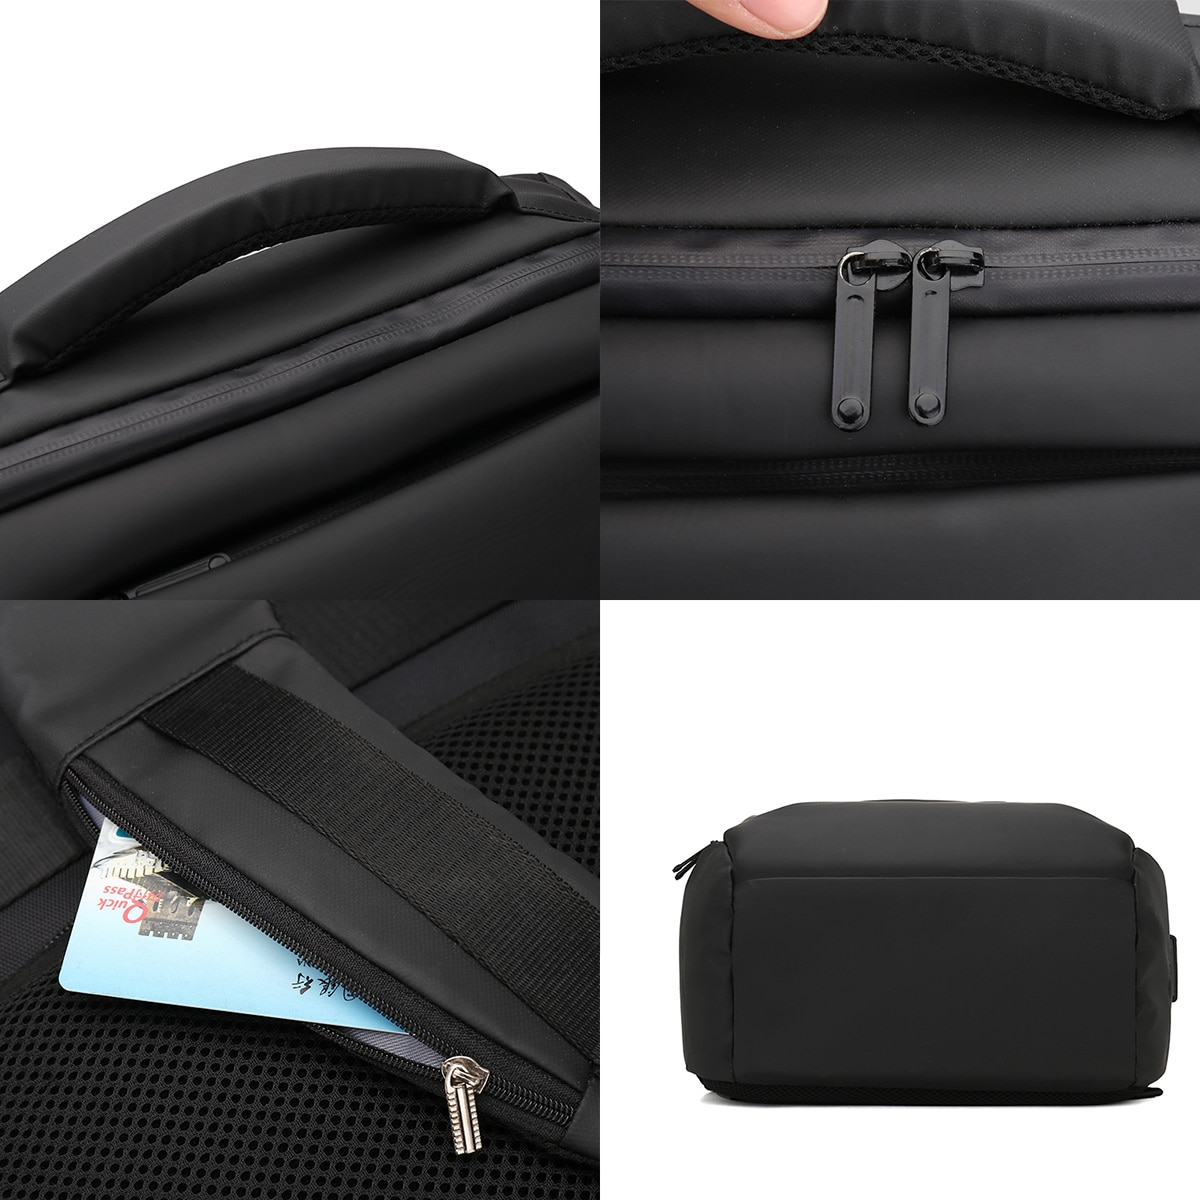Men's Backpacks: (1, 143, 591, 592), (665, 796, 1182, 1107)
